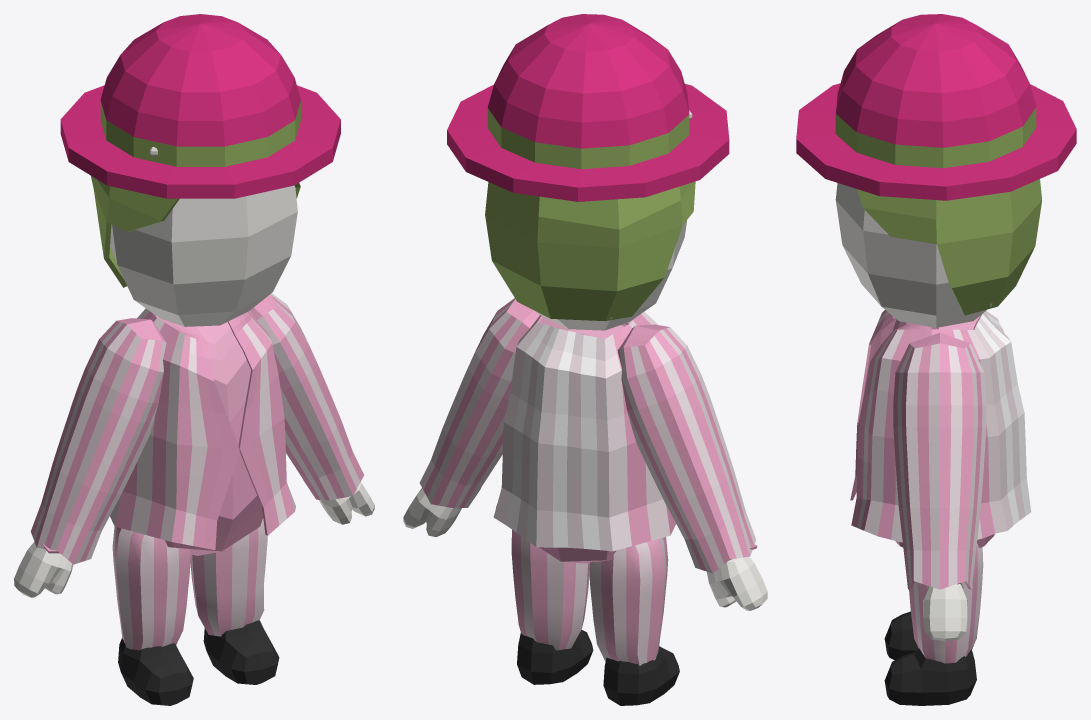
File: Lil dude.fbx
The picture shows the model from 3 angles, left to right: view 1: azimuth 30°, elevation 25°; view 2: azimuth 150°, elevation 25°; view 3: azimuth 270°, elevation 25°; orthographic projection.
Visible parts, largest first — view 1: Lil dude; view 2: Lil dude; view 3: Lil dude.
Boxes of the visible parts, x1,y1,x2,y2 form: Lil dude: (14, 14, 374, 705); Lil dude: (403, 14, 767, 705); Lil dude: (796, 14, 1076, 705).
Bounding box in the file's own units: 176 × 316 × 121.
